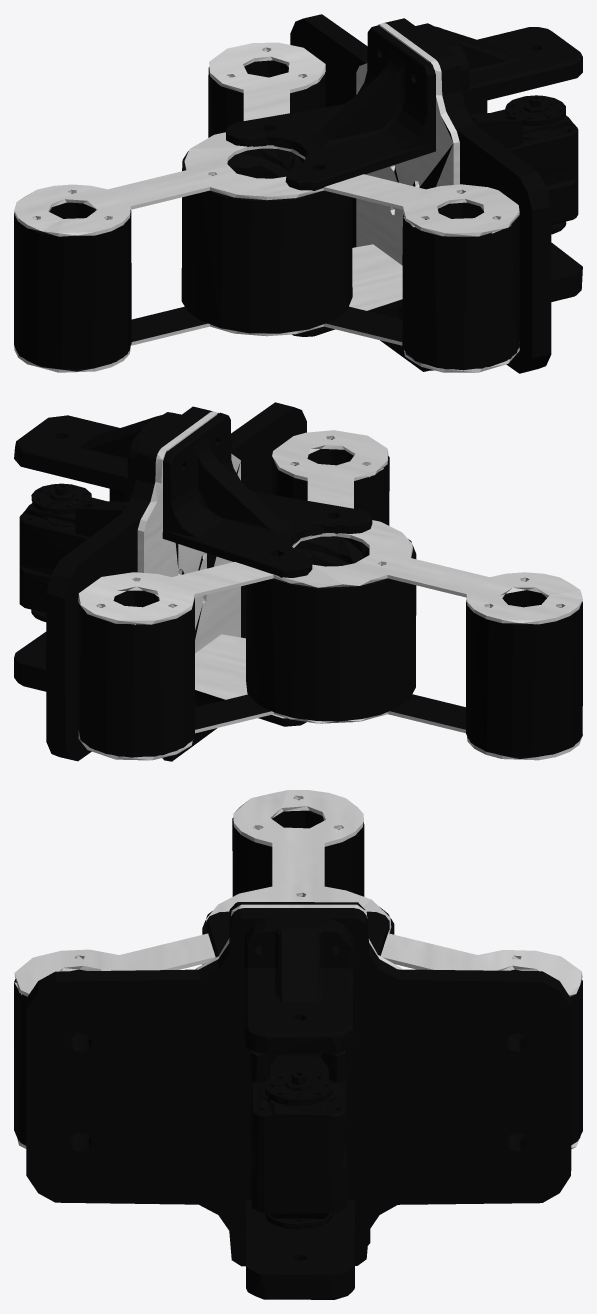
The model's file is servo1_link.dae.
The picture shows the model from 3 angles, top to bottom: view 1: azimuth 30°, elevation 25°; view 2: azimuth 150°, elevation 25°; view 3: azimuth 270°, elevation 25°; orthographic projection. The views are drawn at different scales.
Parts seen in each view (by area): view 1: servo1_link; view 2: servo1_link; view 3: servo1_link.
Boxes of the visible parts, x1=… form: servo1_link: x1=14, y1=14, x2=582, y2=373; servo1_link: x1=14, y1=402, x2=582, y2=761; servo1_link: x1=14, y1=790, x2=582, y2=1299.
Bounding box in the file's own units: 0.2586 × 0.2075 × 0.1401.
Materials: 1 (1 with a texture image).
